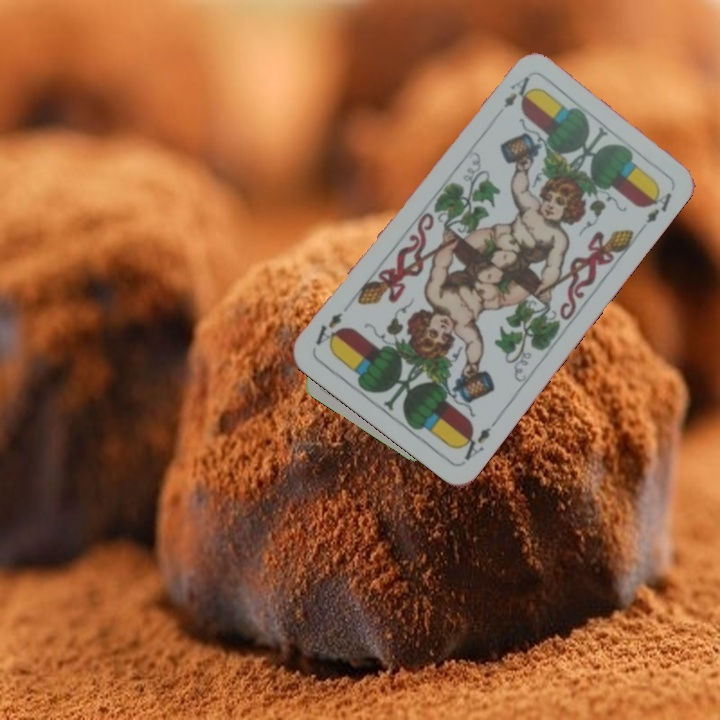EA: (454, 414, 501, 464), (499, 72, 532, 111)
